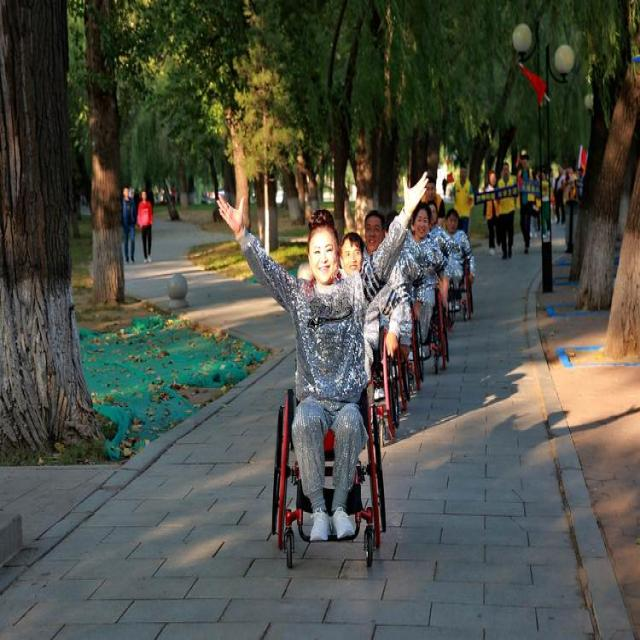wheelchairs: (266, 381, 389, 571)
